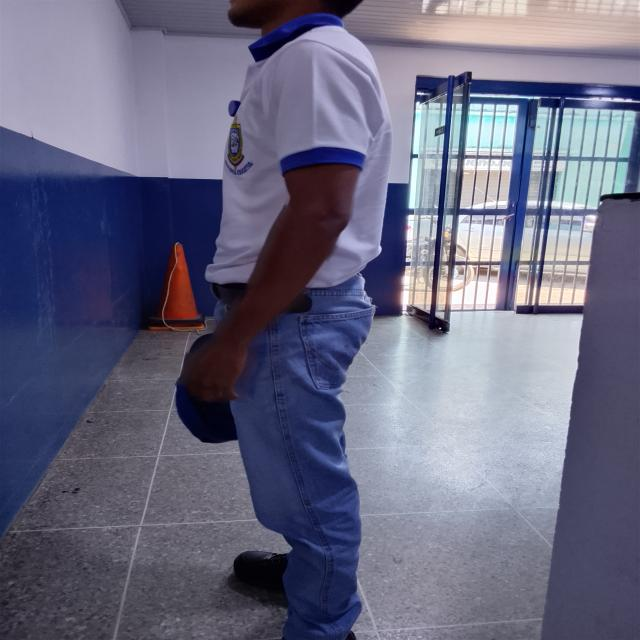uniforme_superior: (204, 12, 393, 288)
